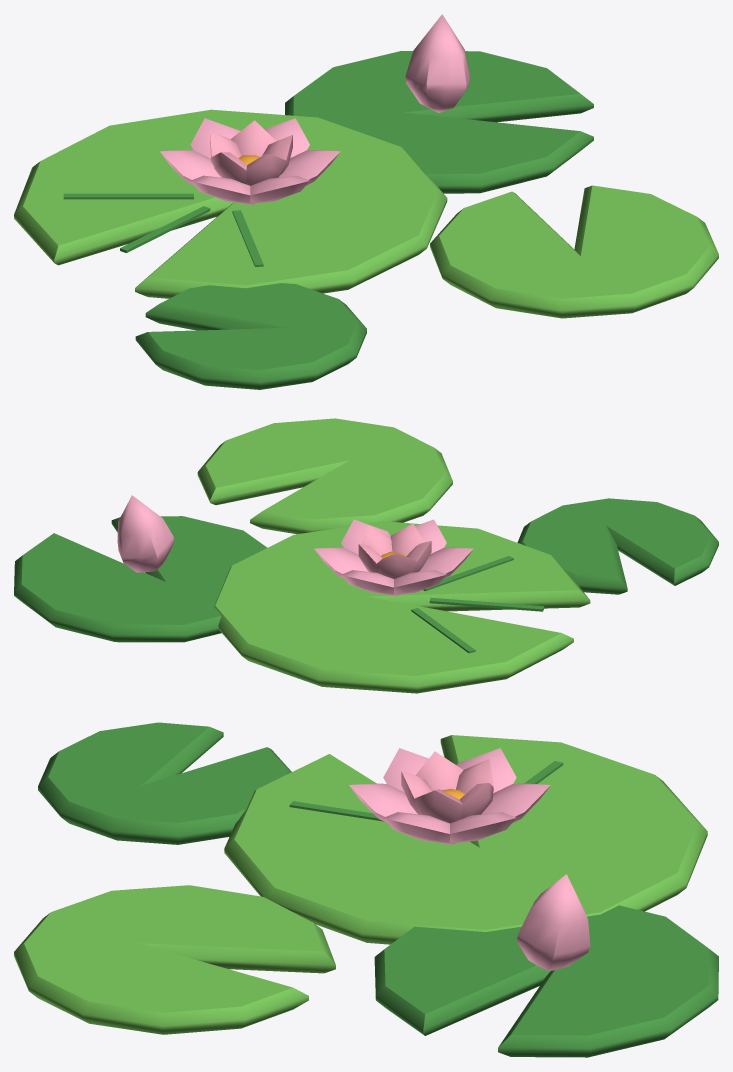
Rendered from prop_lilypads.glb.
3 renders of one model, top to bottom at view 1: azimuth 30°, elevation 25°; view 2: azimuth 150°, elevation 25°; view 3: azimuth 270°, elevation 25°, orthographic. The views are drawn at different scales.
Parts seen in each view (by area): view 1: prop_lilypads; view 2: prop_lilypads; view 3: prop_lilypads.
Boxes of the visible parts, <box> form: prop_lilypads: <box>14,14,718,389</box>; prop_lilypads: <box>14,418,718,693</box>; prop_lilypads: <box>14,722,718,1057</box>.
Size of the model in its own units: 0.9429 by 0.1665 by 0.872.
